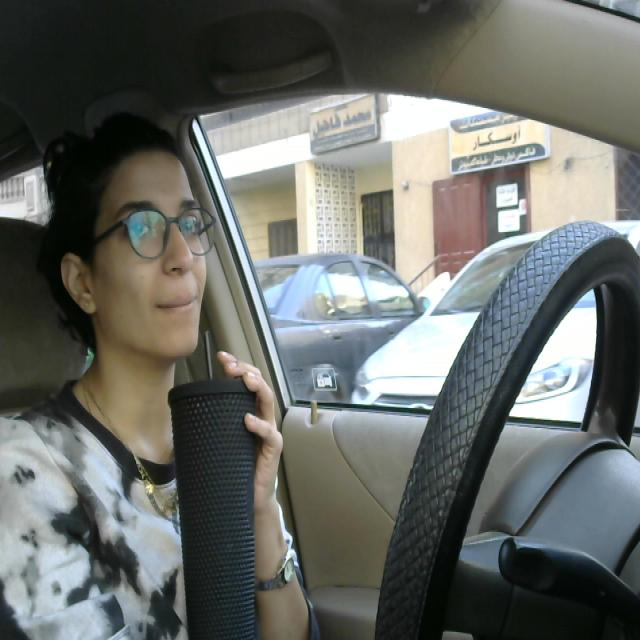drinking: (161, 320, 261, 640)
